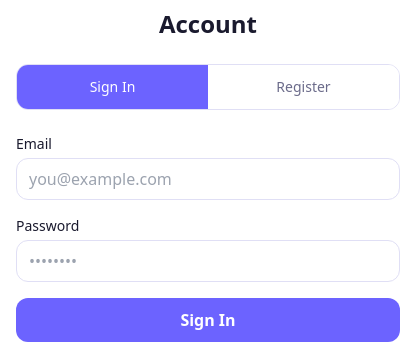
AuthPage › switches to Register tab when clicked
What coordinates should you click on to do the following:
click the tab "Register"
I would click on:
 (304, 87)
Its box is 208,65 -> 399,109.
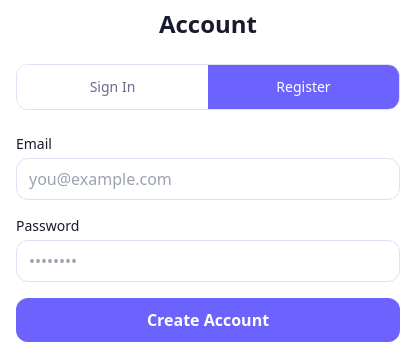
Expected: the button "Create Account" is shown, 16,298 -> 400,342
